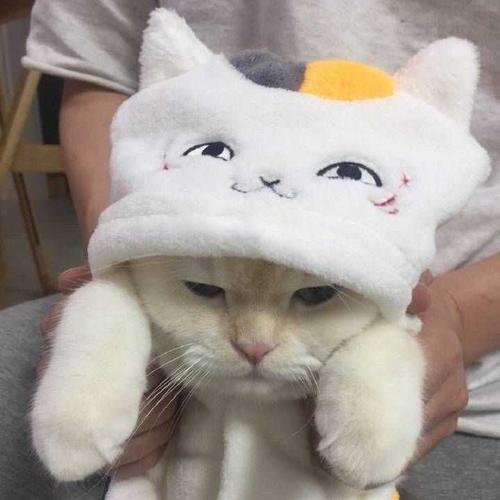cat: (80, 121, 431, 432)
